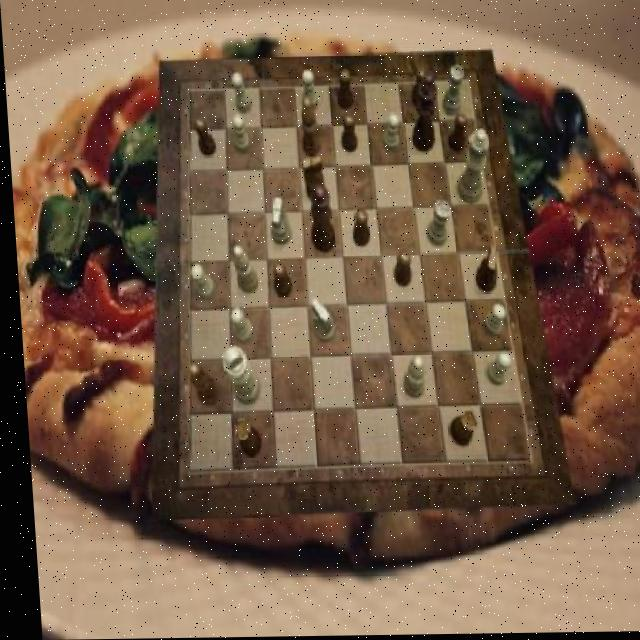bishop: (182, 363, 212, 405), (299, 98, 319, 157)
black-bishop: (406, 72, 438, 154)
black-king: (469, 248, 496, 295), (298, 156, 323, 203)
black-knight: (192, 118, 215, 158), (443, 115, 465, 155), (408, 69, 427, 109), (333, 70, 352, 110), (388, 251, 408, 287), (348, 210, 367, 247), (338, 116, 356, 154), (269, 263, 288, 298)
black-pawn: (305, 186, 333, 255)
black-queen: (442, 410, 473, 448), (228, 419, 257, 458)
black-rook: (229, 246, 254, 294), (396, 357, 420, 399)
white-bishop: (215, 347, 254, 405)
white-king: (306, 298, 330, 343), (265, 200, 287, 248)
white-knight: (479, 353, 507, 388), (186, 264, 211, 300), (225, 308, 249, 345), (476, 305, 501, 339), (378, 114, 399, 154), (231, 72, 251, 114), (298, 72, 317, 113), (229, 116, 248, 156)
white-pawn: (450, 130, 490, 205)
white-queen: (438, 65, 463, 116), (422, 203, 449, 248)
